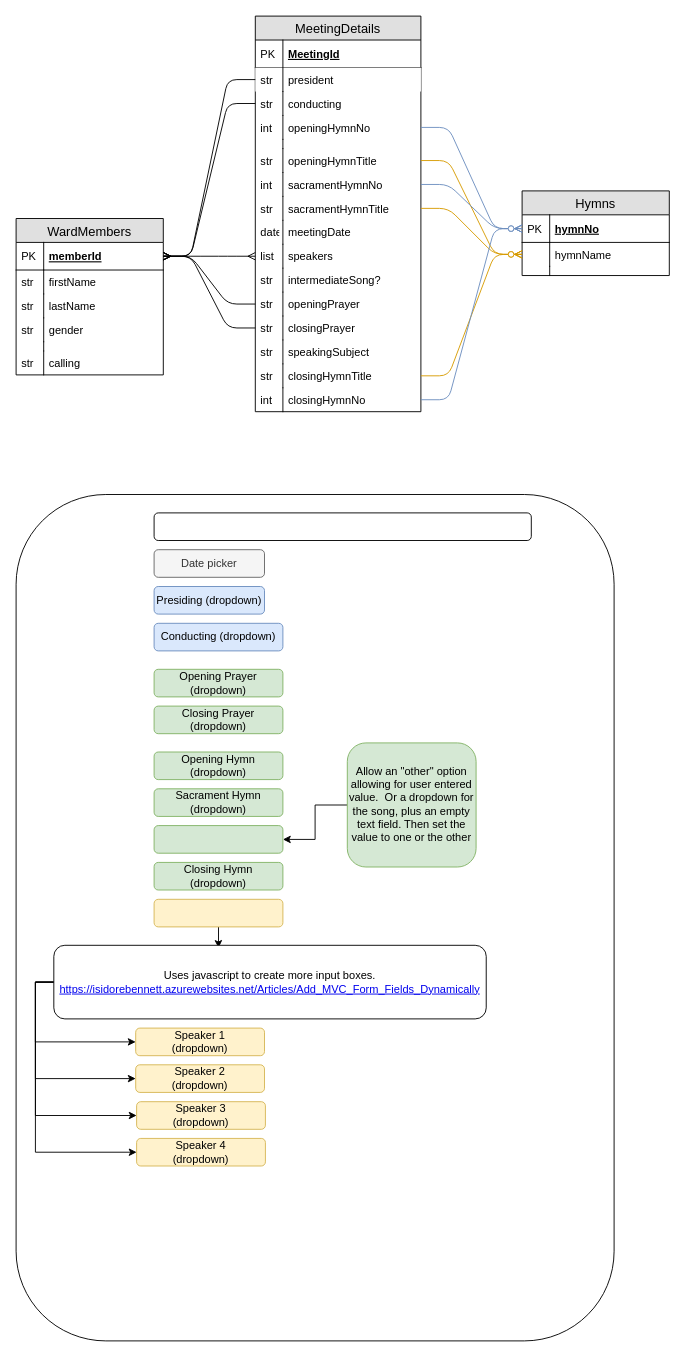
This 685x1357 diagram has some shape labels left out. The shapes that lost their labels are listed below. From the top down, each one's centre as x and y in pixels, then its label:
the point at 342,526: Create New Sacrament Meeting web form mockup
the point at 218,839: Intermediate Song
the point at 218,912: No Speakers (int input box)
